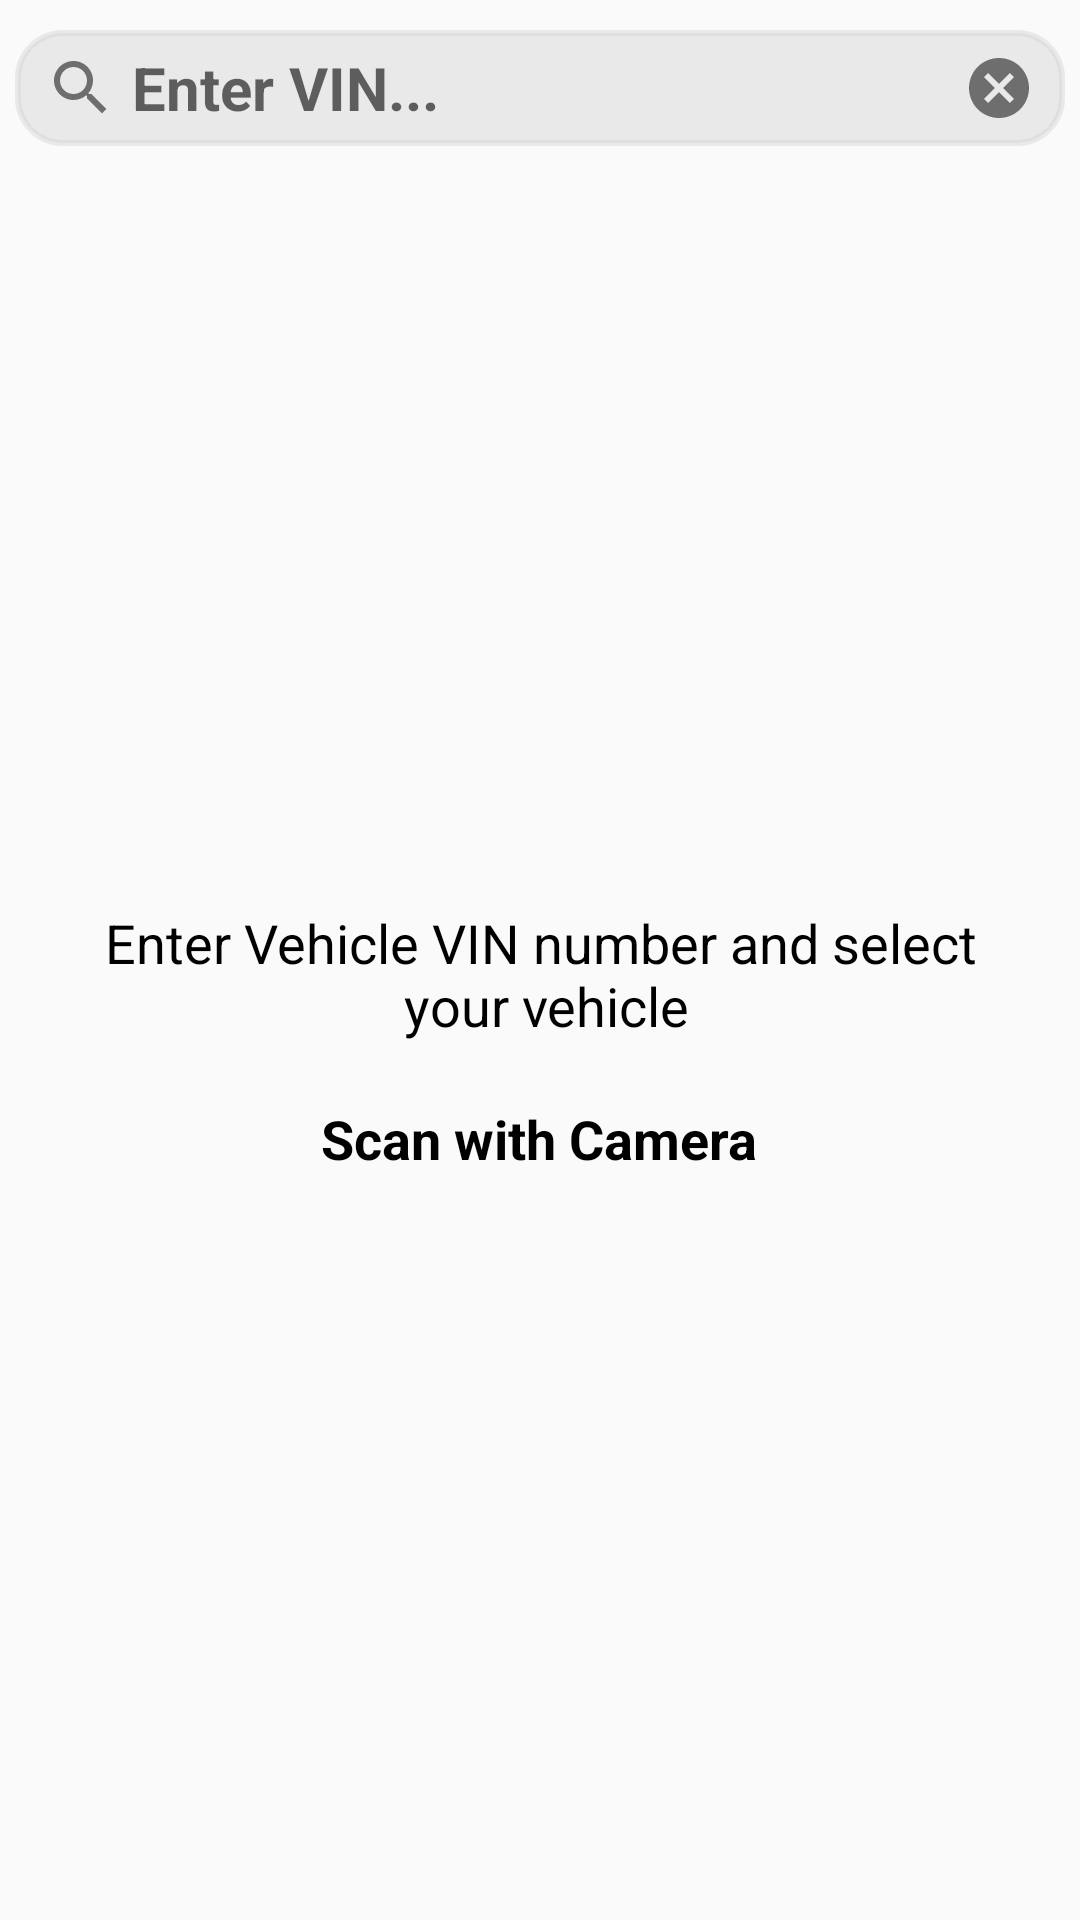

Icons on this 1080px×1920px Android screen, each with its box as (x1, y1, x2, y2):
cancel: (969, 58, 1029, 118)
